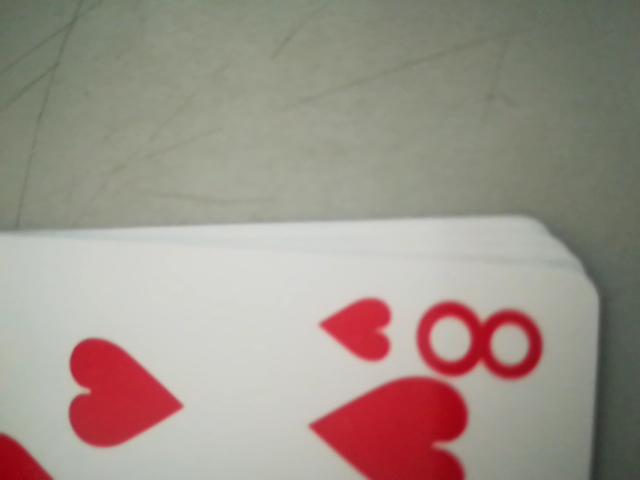hx 8: (312, 288, 542, 380)
